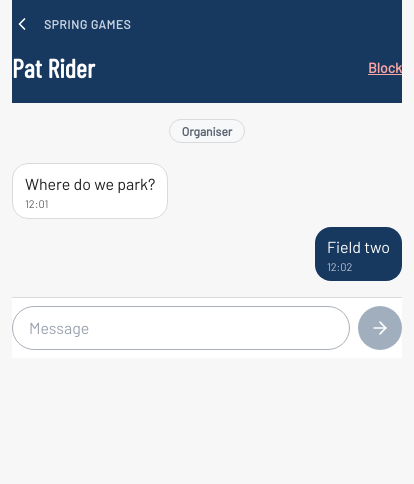
it: MessageThreadPage › says when a message did not send
Type "Hello" into the field labelled "Message".
click(181, 328); type("Hello")  # box [12, 306, 350, 350]
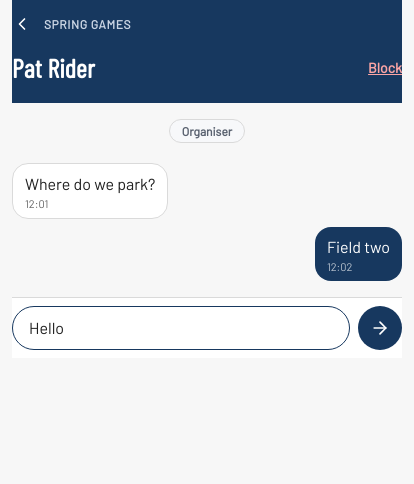
Click the button named "Send".
click(380, 328)  # box [358, 306, 402, 350]
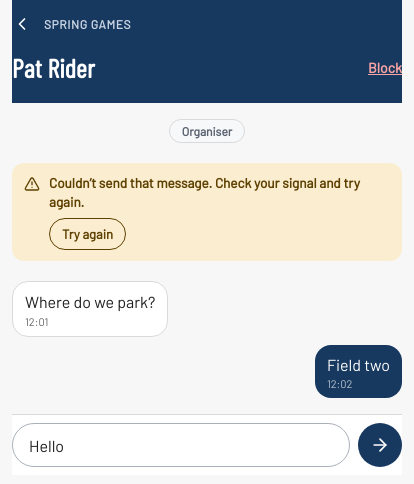
Check: the message shows "Couldn’t send that message", box [49, 174, 360, 210]
